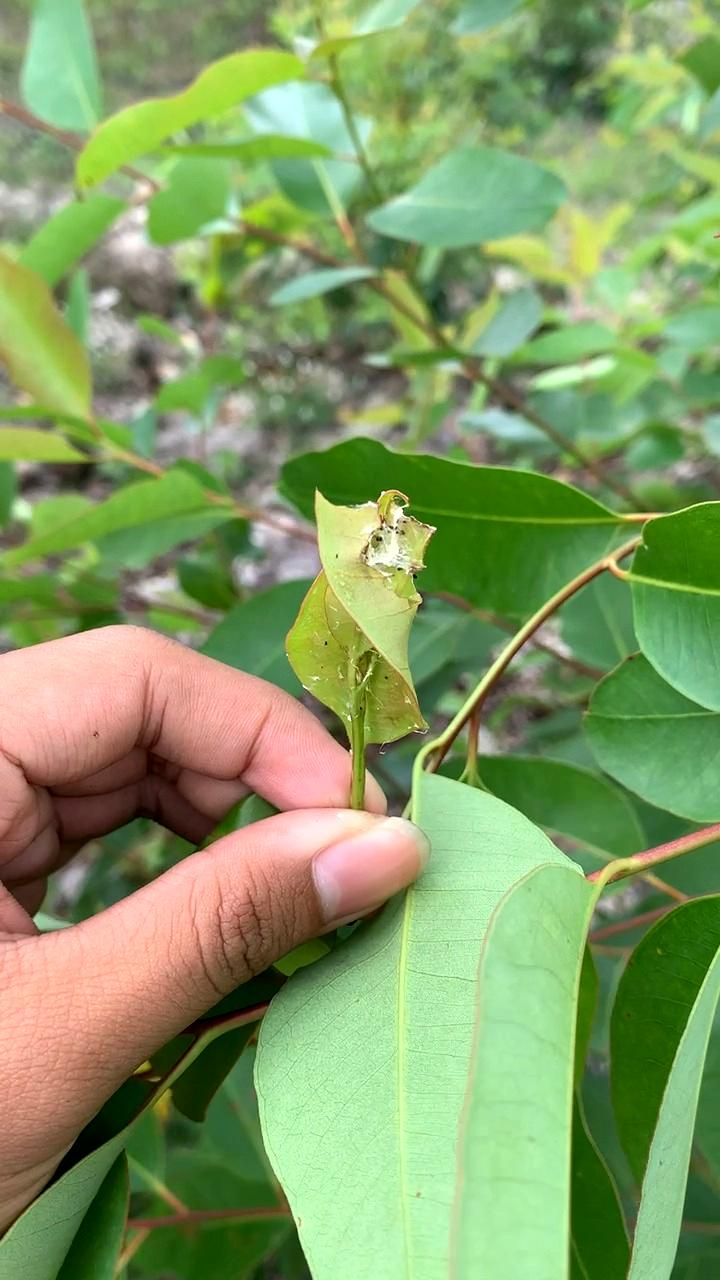Leaf Roller - Leaf: (293, 483, 429, 781)
